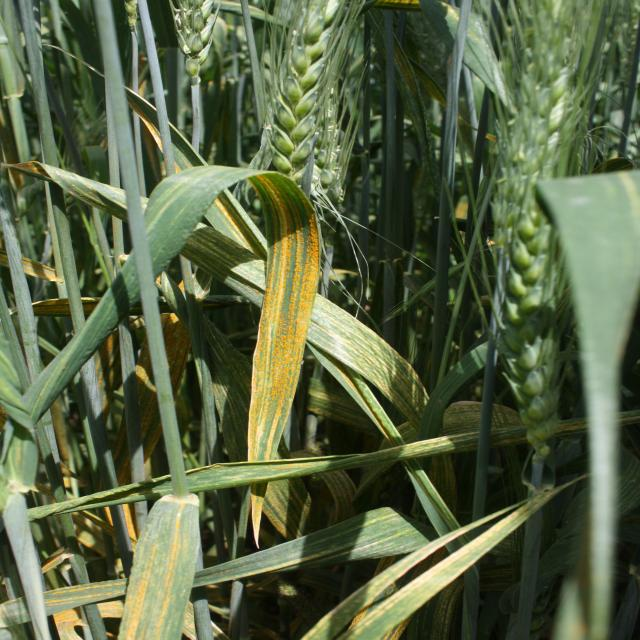leaf rust: (174, 325, 454, 392), (502, 437, 638, 521), (314, 444, 459, 502), (579, 514, 612, 596)
